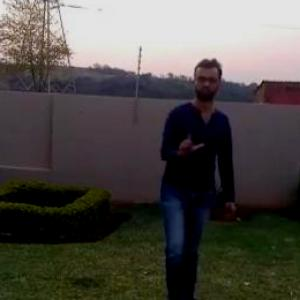land_hand: (168, 119, 209, 160)
